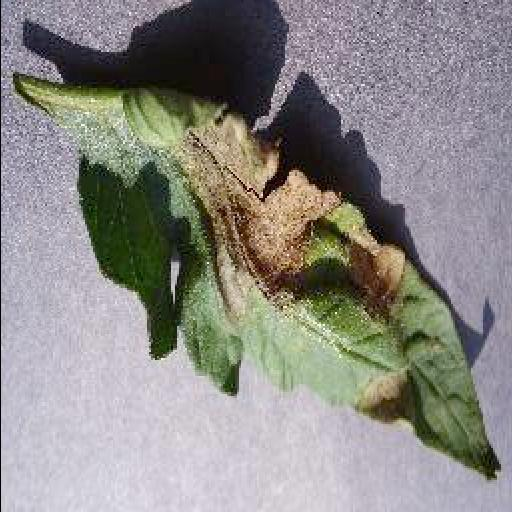disease_tomato: (69, 87, 503, 481)
